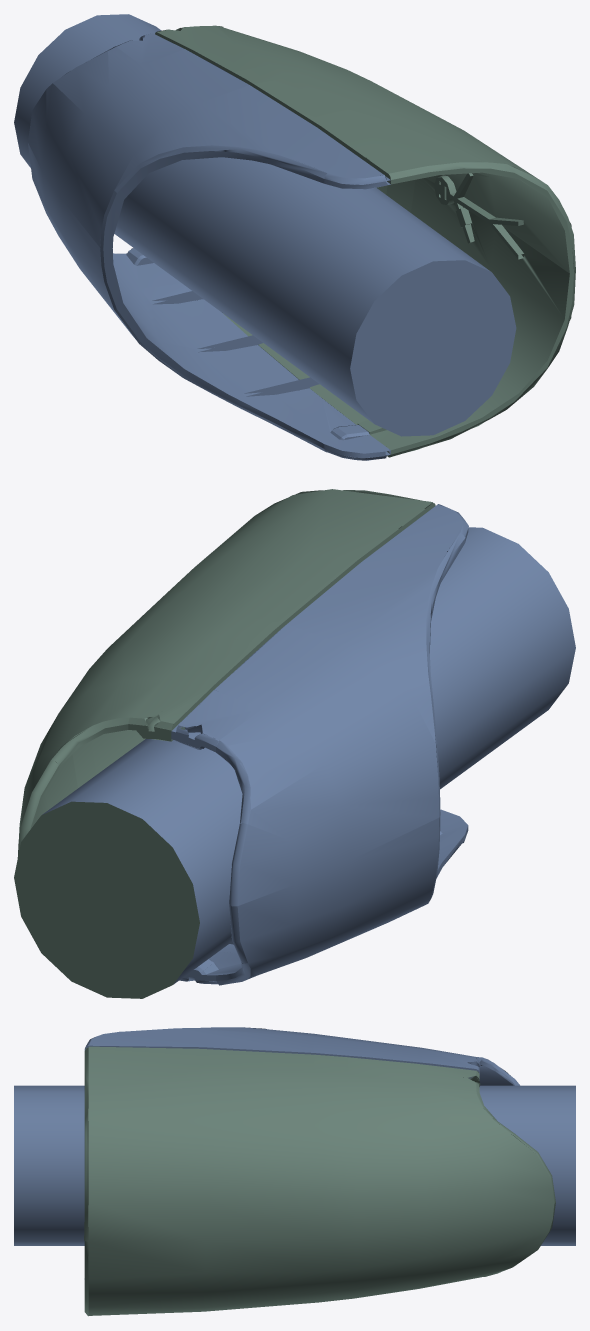
The model's file is icub_r_forearm.dae.
The picture shows the model from 3 angles, top to bottom: view 1: azimuth 30°, elevation 25°; view 2: azimuth 150°, elevation 25°; view 3: azimuth 270°, elevation 25°; orthographic projection. The views are drawn at different scales.
Visible parts, largest first — view 1: r_forearm_mesh, r_forearm_cyl_mesh; view 2: r_forearm_mesh, r_forearm_cyl_mesh; view 3: r_forearm_mesh, r_forearm_cyl_mesh.
Boxes of the visible parts, x1=… form: r_forearm_mesh: x1=28, y1=25, x2=575, y2=460; r_forearm_cyl_mesh: x1=14, y1=14, x2=516, y2=436; r_forearm_mesh: x1=17, y1=489, x2=468, y2=985; r_forearm_cyl_mesh: x1=14, y1=527, x2=575, y2=998; r_forearm_mesh: x1=84, y1=1027, x2=555, y2=1316; r_forearm_cyl_mesh: x1=14, y1=1085, x2=575, y2=1245.
Bounding box in the file's own units: 0.0804 × 0.0654 × 0.14.
